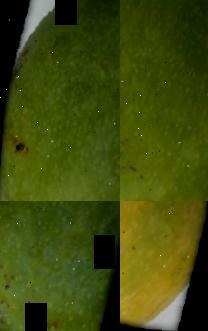PartiallyRipe: (120, 201, 208, 331)
Unripe: (0, 0, 120, 201), (120, 0, 208, 201), (0, 201, 120, 331)
